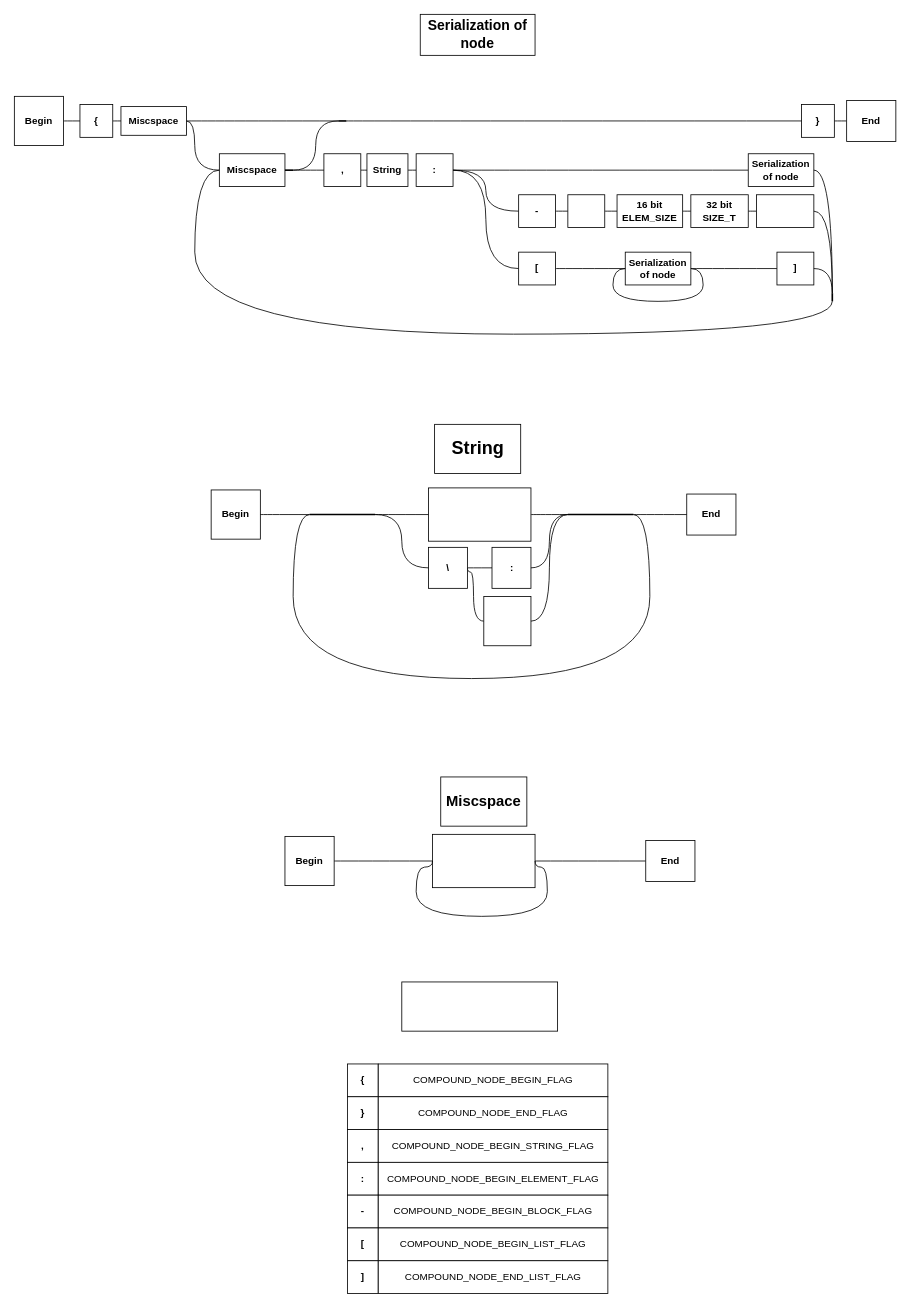
Image size: 910x1308. Some labels were removed from this diagram. The centre of each missing label's shape, as x and y in pixels:
8 bit meta: (x=586, y=211)
Any 8-bit data unit except following state-changing Flag(s): (x=483, y=861)
Any character storable in a string except ":" and "\": (x=479, y=514)
Any printable character exept ":": (x=507, y=621)
Magic values (state changing flags): (x=479, y=1006)
SIZE_T byte data: (x=785, y=211)
